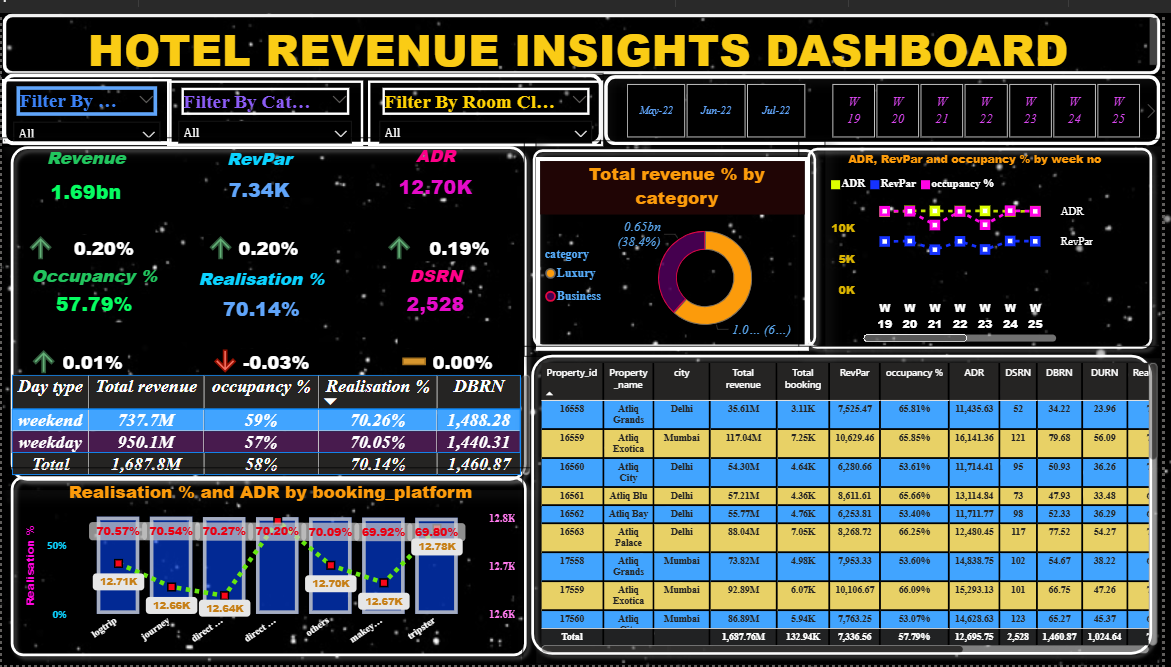

Layout of this report page (visuals, bound fields, positions):
{"tool":"powerbi","page":{"name":"Page 5","canvas":[1280,720],"ordinal":4},"visuals":[{"type":"shape","box":[0,63.3,684.4,80.5],"z":0},{"type":"shape","box":[683.6,64.8,596.1,78.9],"z":1000},{"type":"slicer","fields":{"Values":["dim_hotels.city"]},"box":[4.7,68,187.5,71.9],"z":2000},{"type":"slicer","fields":{"Values":["dim_hotels.category"]},"box":[195.5,67.9,217,72.9],"z":3000},{"type":"slicer","fields":{"Values":["dim_rooms.room_class"]},"box":[417.2,68,260.2,72.7],"z":4000},{"type":"slicer","fields":{"Values":["dim_date.mmm yy"]},"box":[677.5,67.9,246.8,72.9],"z":5000},{"type":"shape","box":[0,134.2,589.7,397.6],"z":6000},{"type":"slicer","fields":{"Values":["dim_date.week no"]},"box":[891.2,67.9,372.7,72.9],"z":7000},{"type":"card","title":"Revenue","fields":{"Values":["Imp_measure.Total revenue"]},"box":[0,144.1,190.5,72.9],"z":8000},{"type":"card","title":"RevPar","fields":{"Values":["Imp_measure.RevPar"]},"box":[190.5,144.1,173.9,66.3],"z":9000},{"type":"card","title":"ADR","fields":{"Values":["Imp_measure.ADR"]},"box":[382.6,150.7,175.6,66.3],"z":10000},{"type":"actionButton","box":[0,0,100,40],"z":11000},{"type":"card","title":"Realisation %","fields":{"Values":["Imp_measure.Realisation %"]},"box":[202.1,276.6,180.6,72.9],"z":12000},{"type":"card","title":"Occupancy %","fields":{"Values":["Imp_measure.occupacy %"]},"box":[5,268.3,182.2,71.2],"z":13000},{"type":"card","title":"DSRN","fields":{"Values":["Imp_measure.DSRN"]},"box":[400.9,271.7,185.5,77.9],"z":14000},{"type":"tableEx","fields":{"Values":["Imp_measure.Total Revenue WOW change %"]},"box":[23.2,203.7,178.9,77.9],"z":15000},{"type":"tableEx","fields":{"Values":["Imp_measure.RevPAR WOW change %"]},"box":[215.3,203.7,180.6,77.9],"z":16000},{"type":"tableEx","fields":{"Values":["Imp_measure.ADR  WOW change %"]},"box":[389.3,203.7,197.1,77.9],"z":17000},{"type":"tableEx","fields":{"Values":["Imp_measure.DSRN  WOW change %"]},"box":[414.1,333,178.9,89.4],"z":18000},{"type":"tableEx","fields":{"Values":["Imp_measure.Realisation WOW change %"]},"box":[195.5,326.3,180.6,89.4],"z":19000},{"type":"tableEx","fields":{"Values":["Imp_measure.Occupancy WOW change %"]},"box":[9.9,324.7,173.9,79.5],"z":20000},{"type":"tableEx","fields":{"Values":["dim_date.Day type","Imp_measure.Total revenue","Imp_measure.occupancy %","Imp_measure.Realisation %","Imp_measure.DBRN"]},"box":[6.6,404.2,578.1,127.5],"z":21000},{"type":"textbox","box":[68.3,0,1141.7,68.3],"z":22000},{"type":"shape","box":[576.5,149.1,333,238.5],"z":23000},{"type":"donutChart","title":"Total revenue % by category","fields":{"Category":["dim_hotels.category"],"Y":["Imp_measure.Total revenue"]},"box":[589.7,162.3,301.5,208.7],"z":24000},{"type":"shape","box":[891.2,144.1,389.3,245.2],"z":25000},{"type":"lineChart","fields":{"Y":["Imp_measure.ADR","Imp_measure.RevPar"],"Y2":["Imp_measure.occupancy %"],"Category":["dim_date.week no"]},"box":[911.7,160,353.3,216.7],"z":26000},{"type":"shape","box":[3.3,515.2,589.7,205.4],"z":27000},{"type":"lineClusteredColumnComboChart","fields":{"Category":["fact_bookings.booking_platform"],"Y":["Imp_measure.Realisation %"],"Y2":["Imp_measure.ADR"]},"box":[21.5,531.7,554.9,175.6],"z":28000},{"type":"shape","box":[575.8,375.8,704.8,343.5],"z":29000},{"type":"tableEx","fields":{"Values":["dim_hotels.property_id","dim_hotels.property_name","dim_hotels.city","Imp_measure.Total revenue","Imp_measure.Total booking","Imp_measure.RevPar","Imp_measure.occupancy %","Imp_measure.ADR","Imp_measure.DSRN","Imp_measure.DBRN","Imp_measure.DURN","Imp_measure.Realisation %"]},"box":[590,350,690,330],"z":30000}]}

Visuals, with their boxes in screenshot pixels (x1, y1, x2, y2), scaled from the page's 1280x720 canvas onto the 1171x667 screenshot:
shape: x1=0 y1=59 x2=626 y2=133
shape: x1=625 y1=60 x2=1170 y2=133
slicer - dim_hotels.city: x1=4 y1=63 x2=176 y2=130
slicer - dim_hotels.category: x1=179 y1=63 x2=377 y2=130
slicer - dim_rooms.room_class: x1=382 y1=63 x2=620 y2=130
slicer - dim_date.mmm yy: x1=620 y1=63 x2=846 y2=130
shape: x1=0 y1=124 x2=539 y2=493
slicer - dim_date.week no: x1=815 y1=63 x2=1156 y2=130
"Revenue" card: x1=0 y1=133 x2=174 y2=201
"RevPar" card: x1=174 y1=133 x2=333 y2=195
"ADR" card: x1=350 y1=140 x2=511 y2=201
actionButton: x1=0 y1=0 x2=91 y2=37
"Realisation %" card: x1=185 y1=256 x2=350 y2=324
"Occupancy %" card: x1=5 y1=249 x2=171 y2=315
"DSRN" card: x1=367 y1=252 x2=536 y2=324
tableEx - Imp_measure.Total Revenue WOW change %: x1=21 y1=189 x2=185 y2=261
tableEx - Imp_measure.RevPAR WOW change %: x1=197 y1=189 x2=362 y2=261
tableEx - Imp_measure.ADR  WOW change %: x1=356 y1=189 x2=536 y2=261
tableEx - Imp_measure.DSRN  WOW change %: x1=379 y1=308 x2=543 y2=391
tableEx - Imp_measure.Realisation WOW change %: x1=179 y1=302 x2=344 y2=385
tableEx - Imp_measure.Occupancy WOW change %: x1=9 y1=301 x2=168 y2=374
tableEx - dim_date.Day type x Imp_measure.Total revenue: x1=6 y1=374 x2=535 y2=493
textbox: x1=62 y1=0 x2=1107 y2=63
shape: x1=527 y1=138 x2=832 y2=359
"Total revenue % by category" donutChart: x1=539 y1=150 x2=815 y2=344
shape: x1=815 y1=133 x2=1170 y2=361
lineChart - Imp_measure.ADR x Imp_measure.RevPar: x1=834 y1=148 x2=1157 y2=349
shape: x1=3 y1=477 x2=543 y2=666
lineClusteredColumnComboChart - fact_bookings.booking_platform x Imp_measure.Realisation %: x1=20 y1=493 x2=527 y2=655
shape: x1=527 y1=348 x2=1170 y2=666
tableEx - dim_hotels.property_id x dim_hotels.property_name: x1=540 y1=324 x2=1170 y2=630
